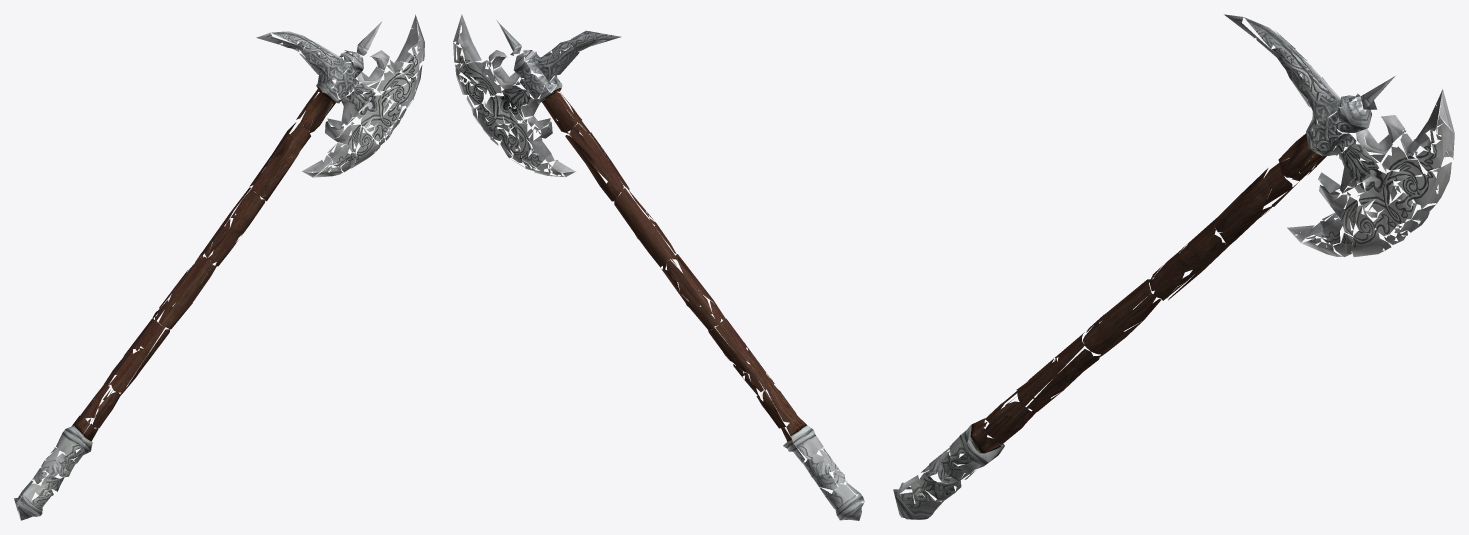
Rendered from battle-axe-combat.glb.
The picture shows the model from 3 angles, left to right: view 1: azimuth 30°, elevation 25°; view 2: azimuth 150°, elevation 25°; view 3: azimuth 330°, elevation 25°; orthographic projection. The views are drawn at different scales.
Visible parts, largest first — view 1: tripo_node_8d9efd74-1b11-40e5-bf06-62a9db43094a; view 2: tripo_node_8d9efd74-1b11-40e5-bf06-62a9db43094a; view 3: tripo_node_8d9efd74-1b11-40e5-bf06-62a9db43094a.
Part boxes in pixels (x1=…): tripo_node_8d9efd74-1b11-40e5-bf06-62a9db43094a: x1=14, y1=14, x2=424, y2=520; tripo_node_8d9efd74-1b11-40e5-bf06-62a9db43094a: x1=453, y1=14, x2=864, y2=520; tripo_node_8d9efd74-1b11-40e5-bf06-62a9db43094a: x1=893, y1=14, x2=1454, y2=519.
Size of the model in its own units: 1 by 0.9987 by 0.0758.
Materials: 1 (1 with a texture image).
